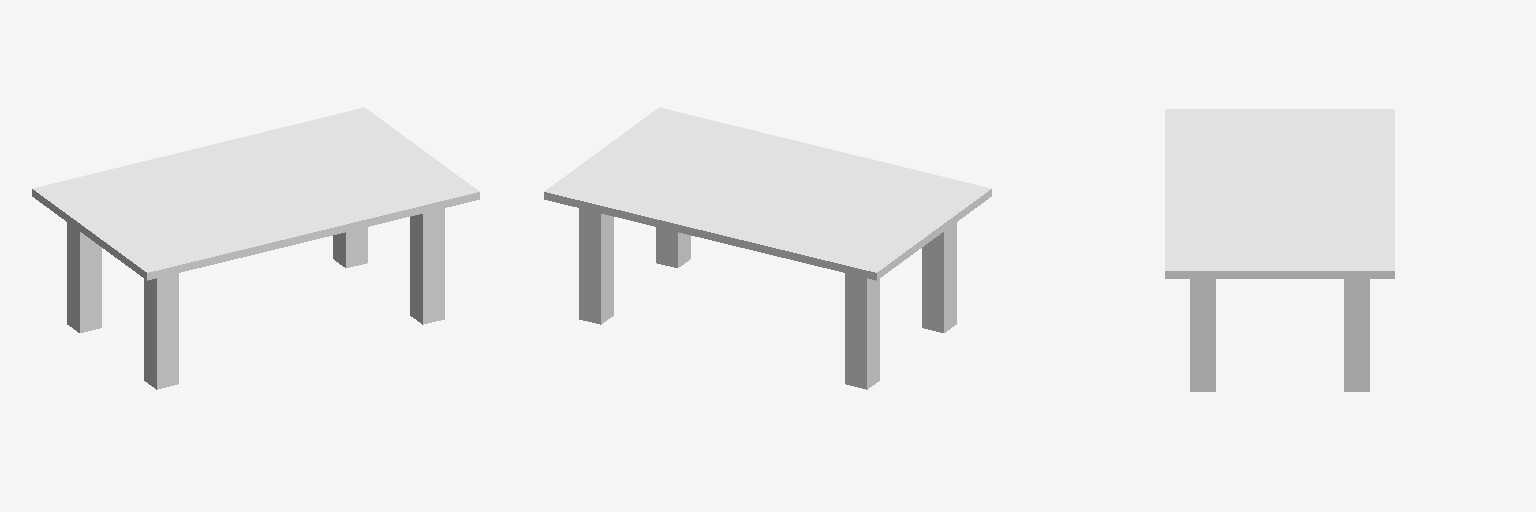
Rendered from poyta.obj.
3 views of the same model, side by side, from view 1: azimuth 30°, elevation 25°; view 2: azimuth 150°, elevation 25°; view 3: azimuth 270°, elevation 25° (orthographic).
Bounding box in the file's own units: 45 × 17 × 27.